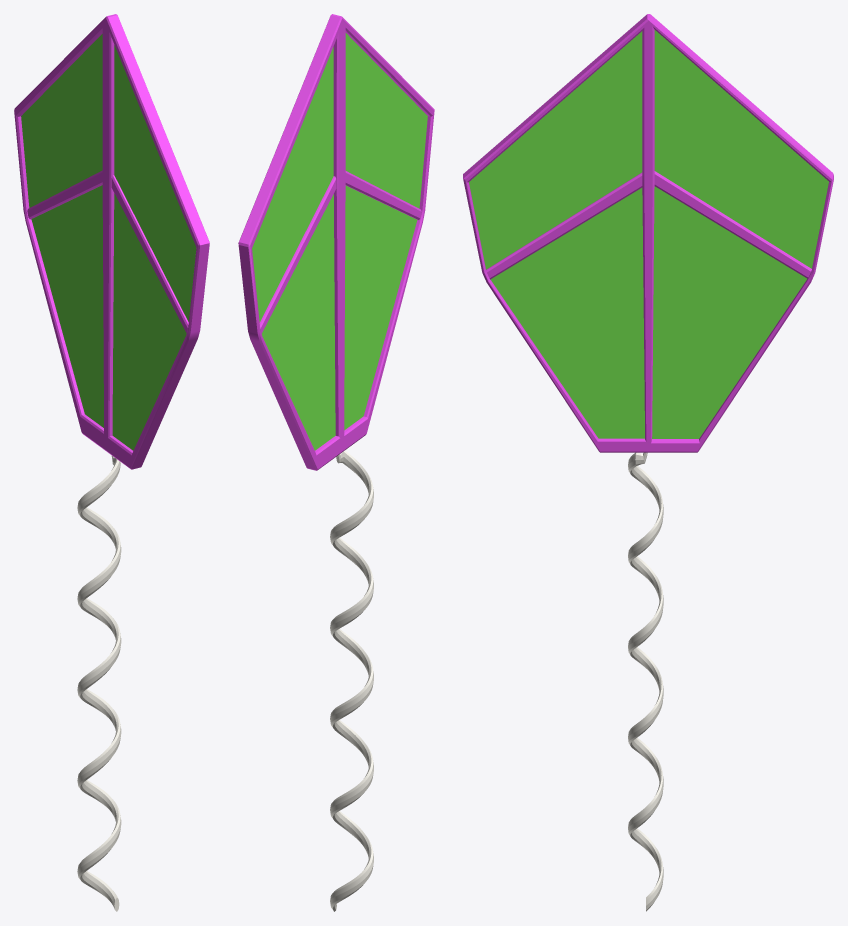
File: Kite_3.fbx
3 renders of one model, left to right at view 1: azimuth 30°, elevation 25°; view 2: azimuth 150°, elevation 25°; view 3: azimuth 270°, elevation 25°, orthographic.
Parts seen in each view (by area): view 1: Kite; view 2: Kite; view 3: Kite.
Boxes of the visible parts, bbox=[...] form: Kite: bbox=[14, 14, 209, 911]; Kite: bbox=[238, 14, 434, 911]; Kite: bbox=[463, 14, 833, 911].
Bounding box in the file's own units: 0.5592 × 11.93 × 4.48.
